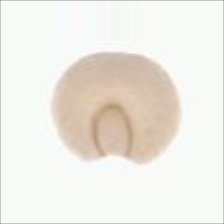L5: (90, 103, 136, 160), (77, 50, 150, 63)
L6: (48, 51, 184, 168)
